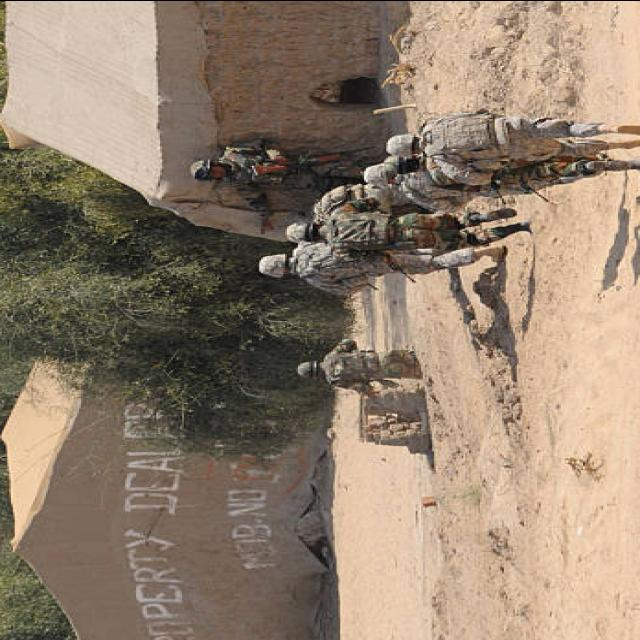soldier: (386, 109, 640, 184), (190, 140, 379, 237), (287, 206, 533, 265), (261, 243, 504, 294), (384, 153, 640, 198), (296, 339, 421, 398), (364, 162, 476, 212), (313, 184, 427, 220)
